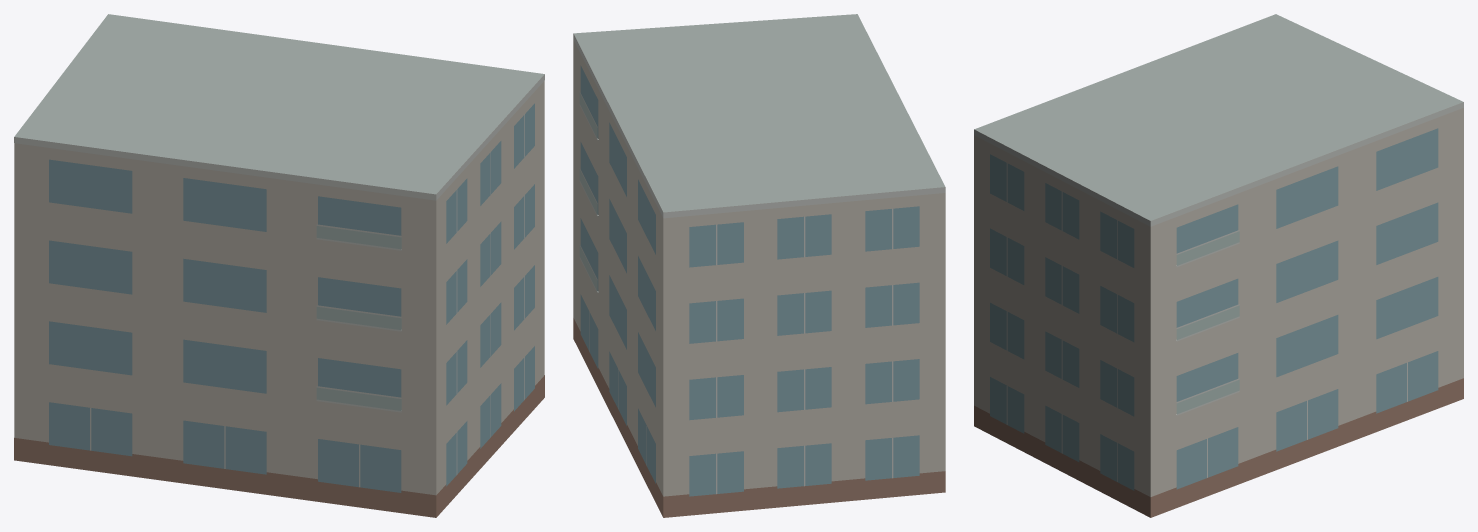
The model's file is survey-upis-32742277.glb.
The picture shows the model from 3 angles, left to right: view 1: azimuth 30°, elevation 25°; view 2: azimuth 150°, elevation 25°; view 3: azimuth 270°, elevation 25°; orthographic projection. The views are drawn at different scales.
Visible parts, largest first — view 1: survey-upis-32742277.tmp; view 2: survey-upis-32742277.tmp; view 3: survey-upis-32742277.tmp.
Part boxes in pixels (box(x1,y1,x2,y2)): survey-upis-32742277.tmp: box(14, 14, 544, 517); survey-upis-32742277.tmp: box(573, 14, 945, 517); survey-upis-32742277.tmp: box(974, 14, 1463, 517).
Size of the model in its own units: 19.01 by 12.7 by 19.
